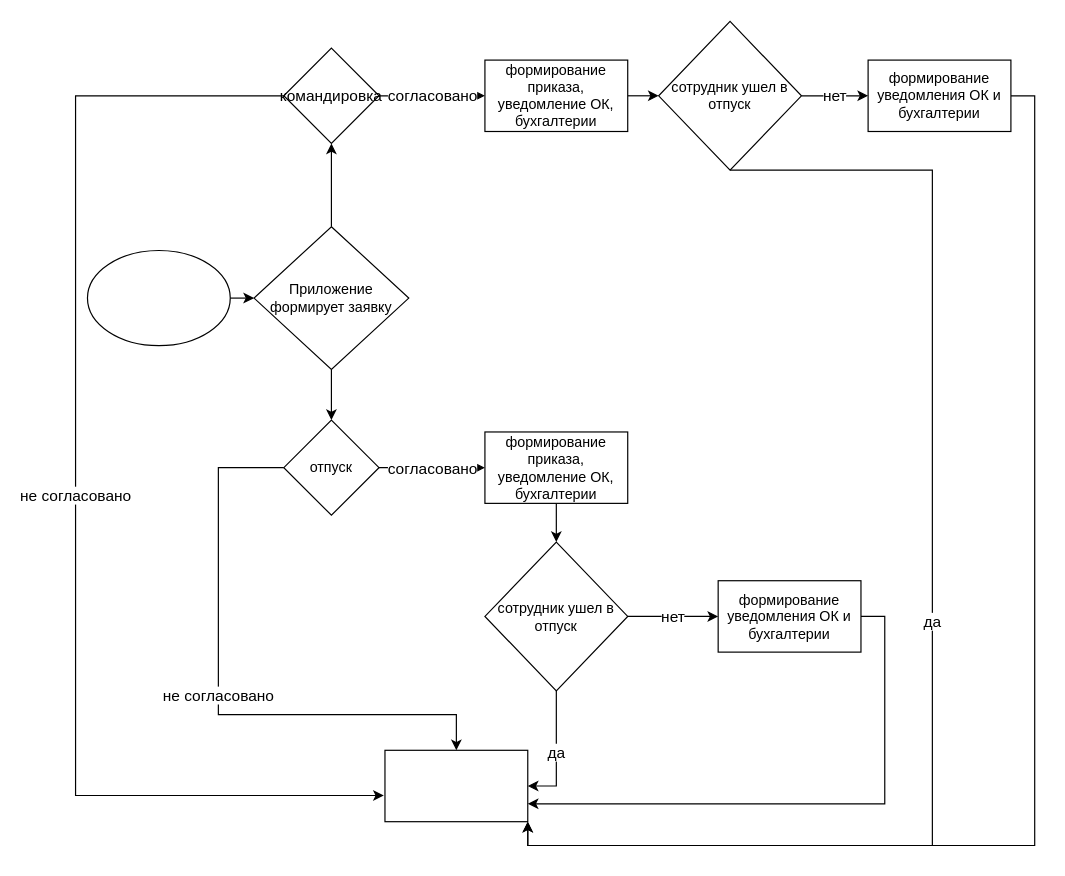
This 1065x876 diagram has some shape labels left out. Here are the shapes that lost their labels. From the top down, the centre of each, then its label:
At point (158, 297): "пользователь".
At point (456, 785): "закрыть заявку".
